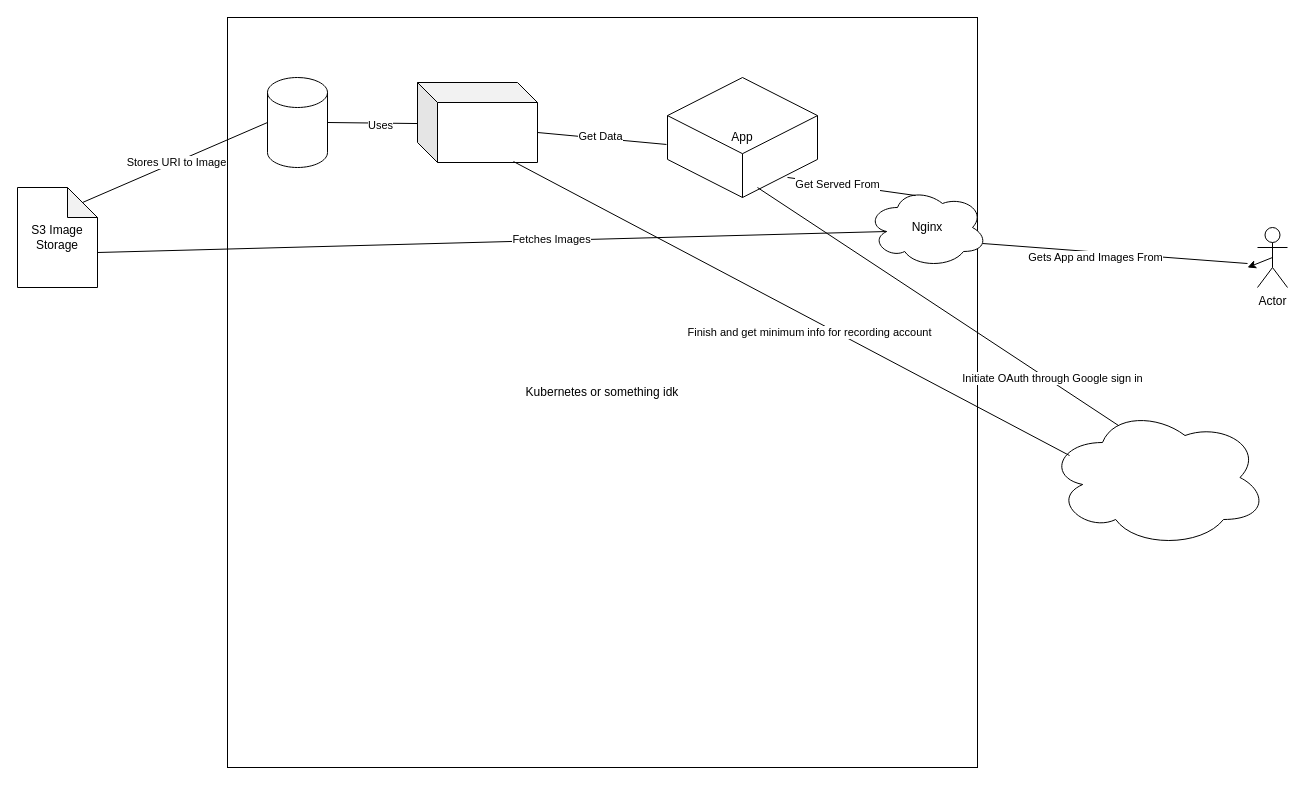
Some shapes in this 1305 by 785 pixel diagram are drawn without their labels. The centre of each missing label's shape, as x and y in pixels:
Database: pixel 297 122
Google Identity Platform: pixel 1157 477
Server: pixel 477 122
